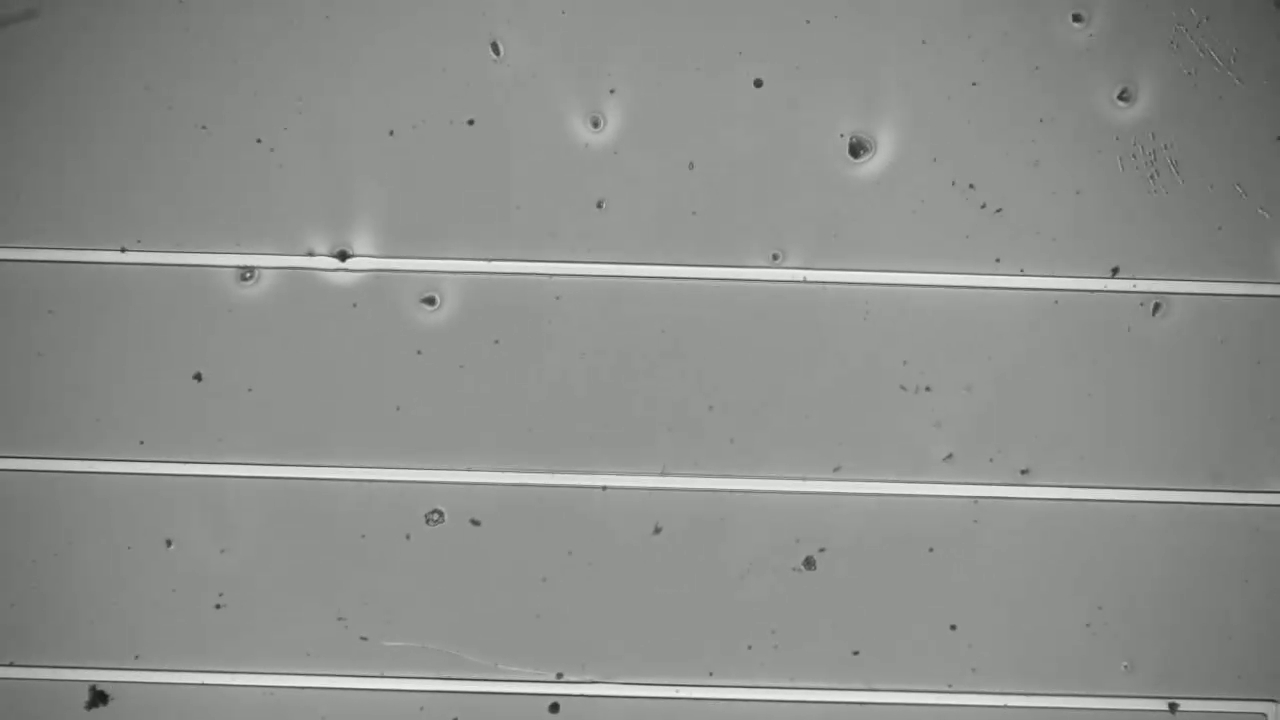stains_enbedded: (319, 237, 357, 281), (1163, 686, 1196, 720)
